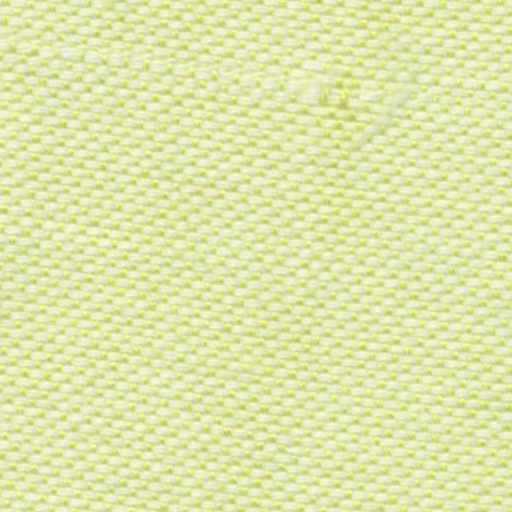DuanSha: (268, 56, 381, 127)
